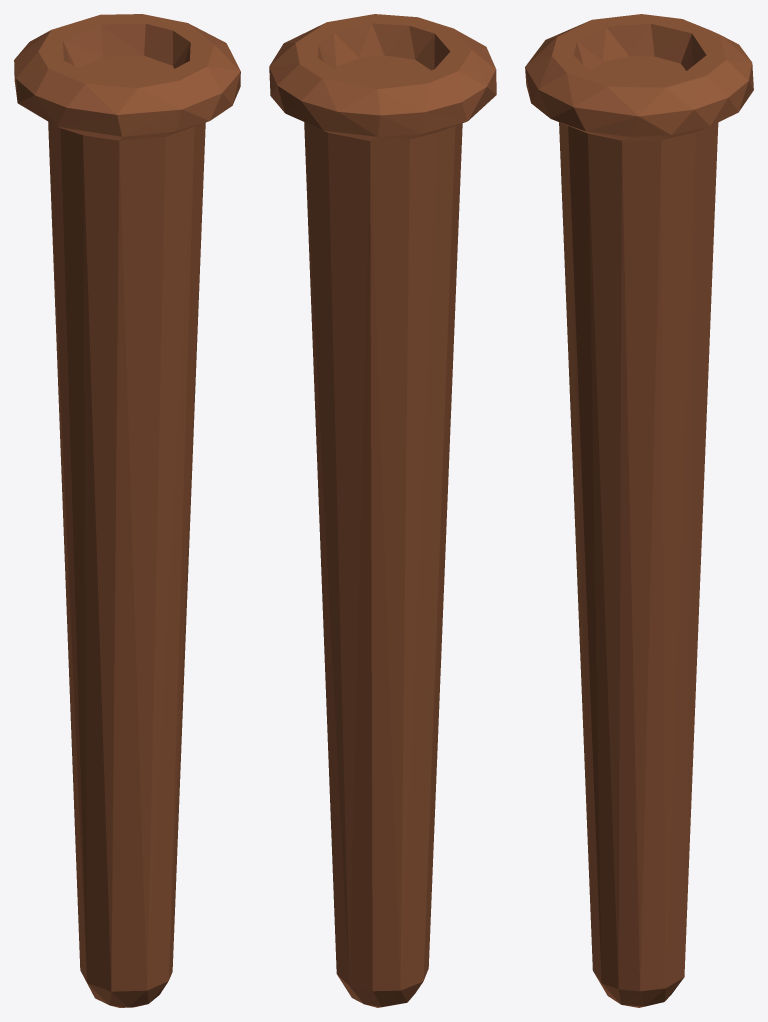
The model's file is torch.fbx.
The picture shows the model from 3 angles, left to right: view 1: azimuth 30°, elevation 25°; view 2: azimuth 150°, elevation 25°; view 3: azimuth 270°, elevation 25°; orthographic projection.
Parts seen in each view (by area): view 1: Torch; view 2: Torch; view 3: Torch.
Part boxes in pixels (x1,y1,x2,y2): Torch: (14,14,240,1007); Torch: (269,14,496,1007); Torch: (525,14,753,1007).
Bounding box in the file's own units: 90.73 × 419 × 91.19.
